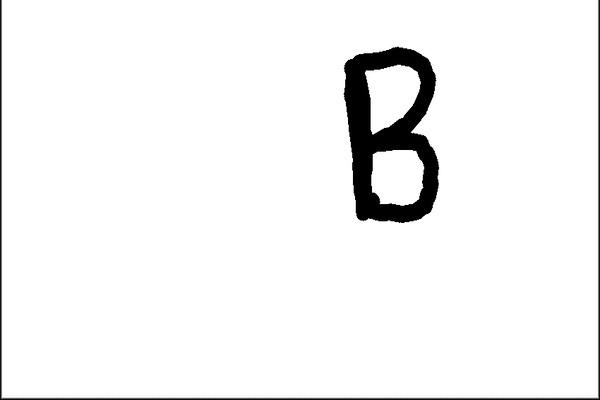B: (334, 41, 446, 229)
